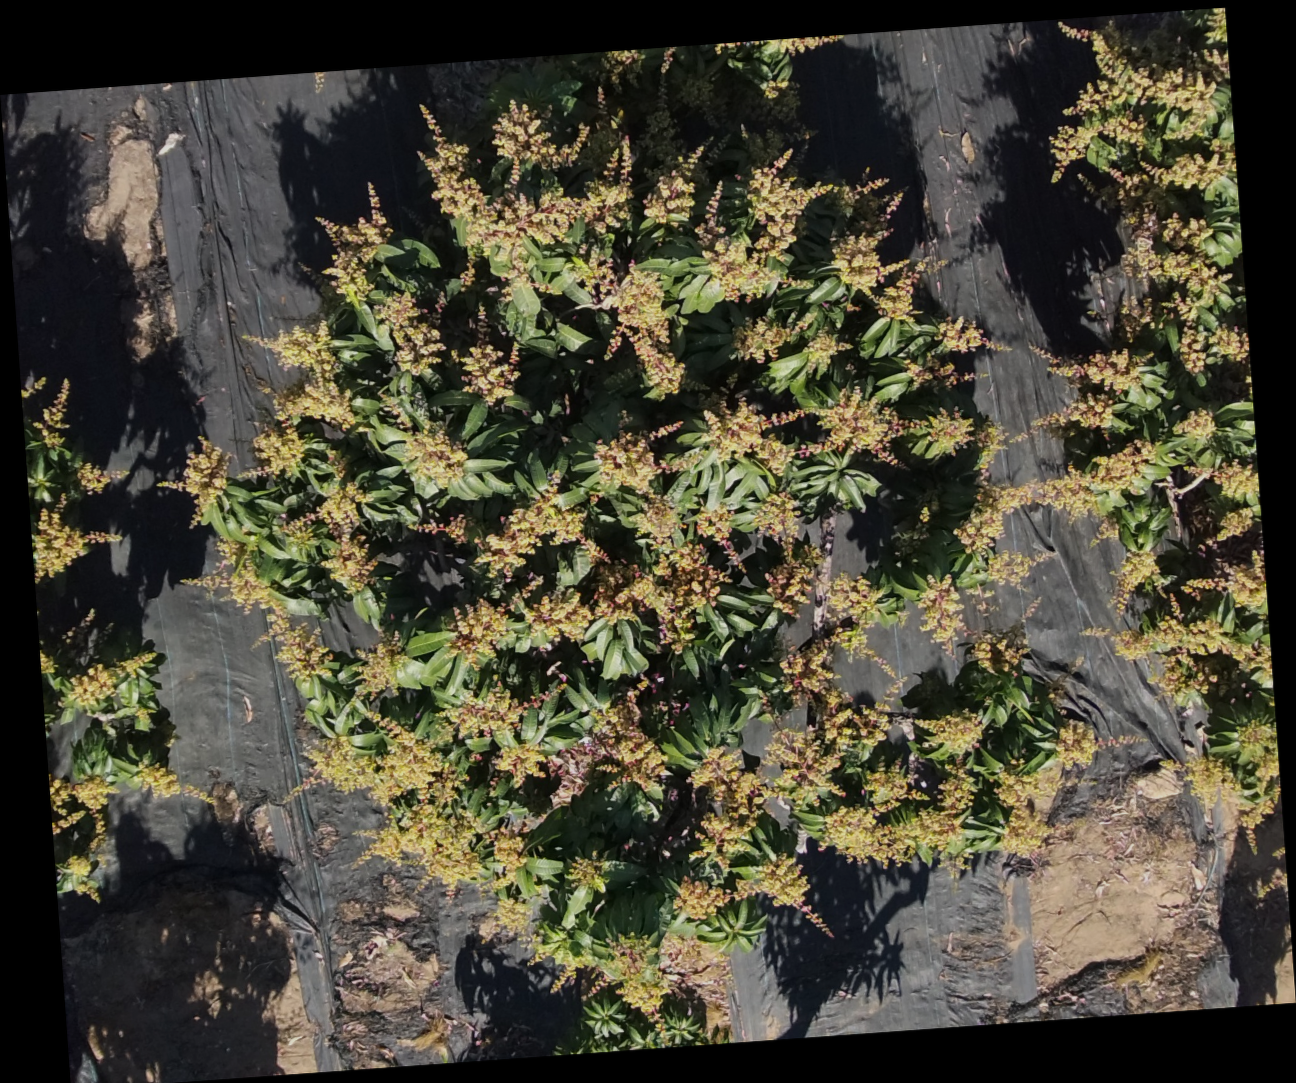flowers: (312, 683, 548, 887), (475, 474, 723, 656), (426, 101, 633, 283), (1050, 26, 1230, 165), (1114, 555, 1268, 704), (766, 636, 891, 806), (191, 537, 329, 683), (953, 449, 1157, 547), (694, 152, 820, 300), (814, 763, 974, 864), (673, 856, 825, 950), (813, 384, 974, 464), (1186, 711, 1279, 847), (1124, 211, 1230, 320), (473, 479, 587, 578), (604, 263, 681, 399), (284, 484, 376, 595), (268, 320, 353, 432), (423, 103, 485, 251), (318, 184, 393, 304), (692, 746, 764, 859), (1110, 142, 1236, 207), (703, 397, 799, 477), (594, 688, 665, 792), (492, 99, 588, 171), (32, 505, 119, 579), (594, 424, 686, 493), (159, 439, 229, 528), (456, 309, 518, 406), (446, 681, 552, 736), (380, 291, 443, 376), (262, 610, 332, 681), (68, 655, 159, 708), (642, 149, 706, 224), (450, 597, 520, 666), (1183, 552, 1265, 610), (875, 257, 949, 320), (1056, 715, 1143, 766), (765, 543, 822, 617), (1050, 351, 1141, 395), (406, 422, 467, 488), (50, 772, 113, 833), (918, 577, 963, 657), (1178, 324, 1249, 374), (695, 182, 726, 297), (832, 233, 886, 295), (1154, 653, 1215, 707), (995, 766, 1082, 803), (1029, 394, 1113, 431), (829, 572, 883, 629), (357, 633, 408, 693), (732, 317, 793, 363), (1113, 551, 1159, 611), (918, 711, 983, 754), (998, 803, 1050, 857), (253, 424, 306, 475), (934, 315, 1006, 352), (698, 506, 738, 568), (36, 379, 72, 448), (570, 236, 615, 292), (637, 495, 681, 551), (925, 408, 974, 456), (971, 631, 1028, 673), (616, 975, 670, 1019), (987, 550, 1053, 586), (905, 354, 974, 388), (477, 899, 532, 940), (753, 492, 799, 539), (496, 744, 546, 787), (492, 827, 526, 887), (805, 329, 850, 371), (1212, 460, 1258, 501), (76, 461, 128, 493), (65, 855, 98, 903), (415, 516, 468, 546), (975, 417, 1005, 469), (566, 857, 608, 894), (136, 763, 180, 798), (755, 38, 843, 55), (893, 520, 929, 560), (1172, 409, 1216, 440), (603, 51, 645, 83), (941, 855, 973, 892), (1215, 508, 1253, 540), (579, 964, 610, 998), (1254, 869, 1287, 900), (1206, 9, 1226, 44), (1093, 518, 1119, 544), (327, 449, 348, 481), (781, 276, 815, 292), (459, 258, 476, 290), (20, 378, 46, 398), (40, 648, 55, 673), (714, 43, 752, 52), (1184, 463, 1205, 476), (845, 301, 861, 312)
